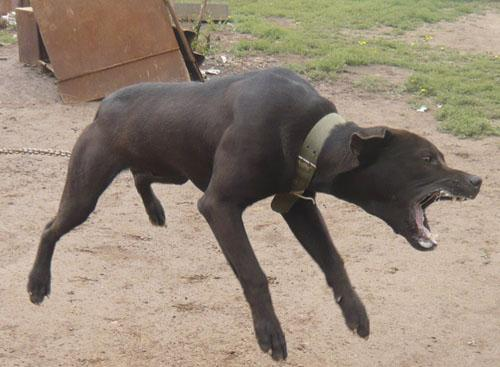dog: (331, 112, 494, 272)
